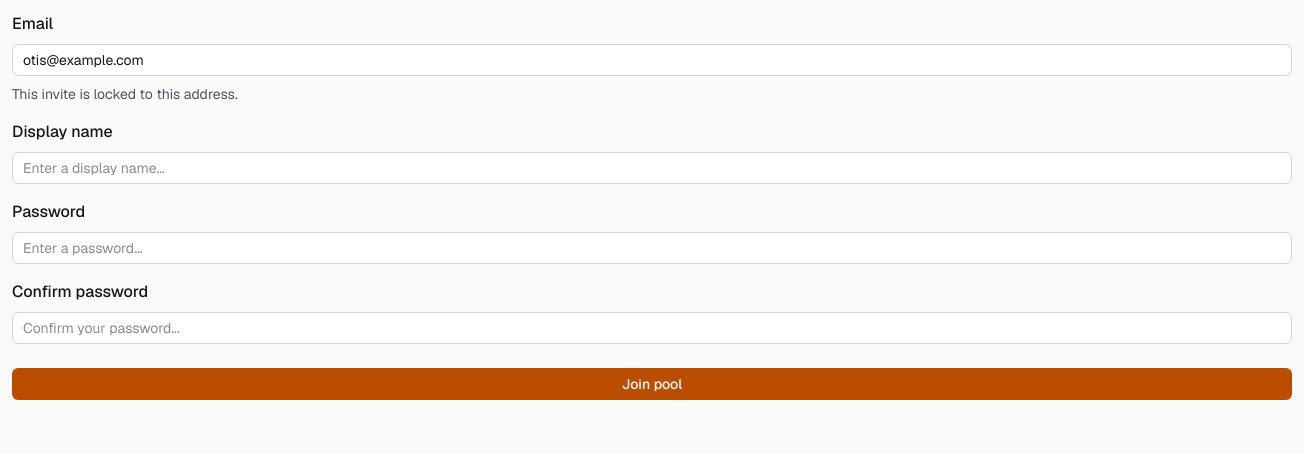
auth forms › should reject mismatched passwords on join
This screenshot has width=1304, height=454.
Type "Otis" into the field labelled "Display name" at (652,168), box [12,152,1292,184]
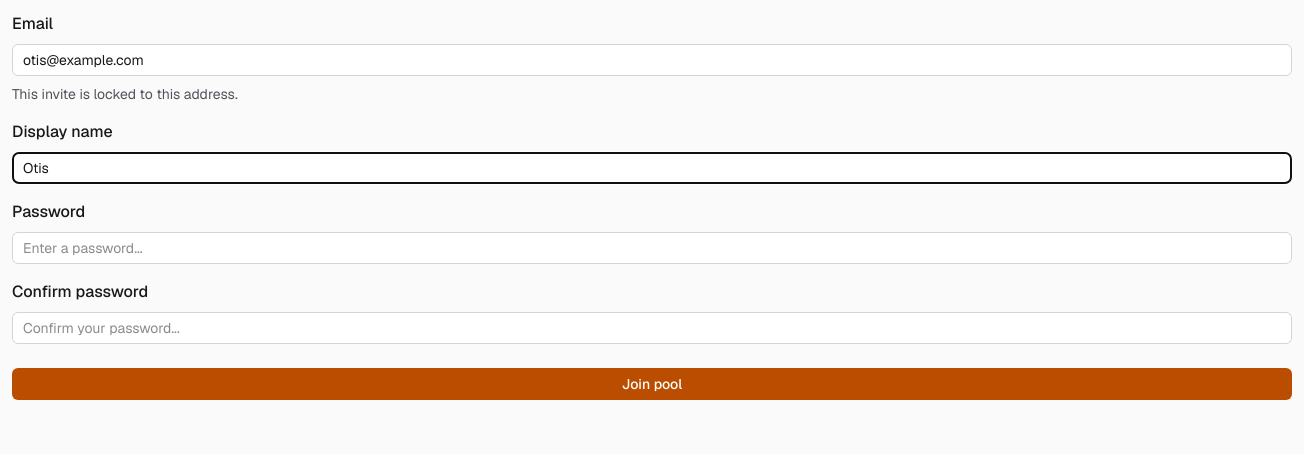
Type "password1" into the password field labelled "Password" at (652,248), box [12,232,1292,264]
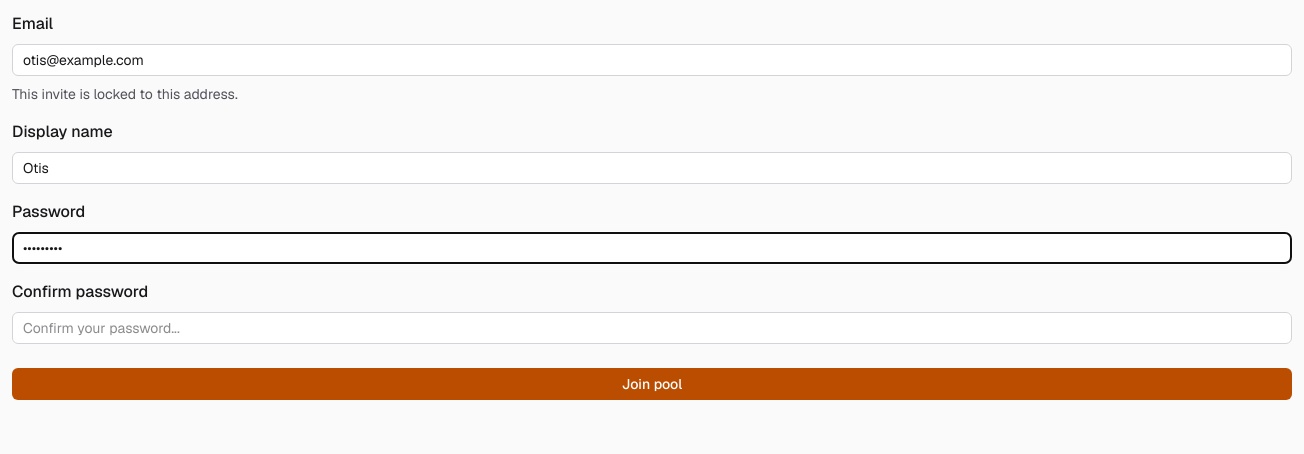
Type "password2" into the password field labelled "Confirm password" at (652,328), box [12,312,1292,344]
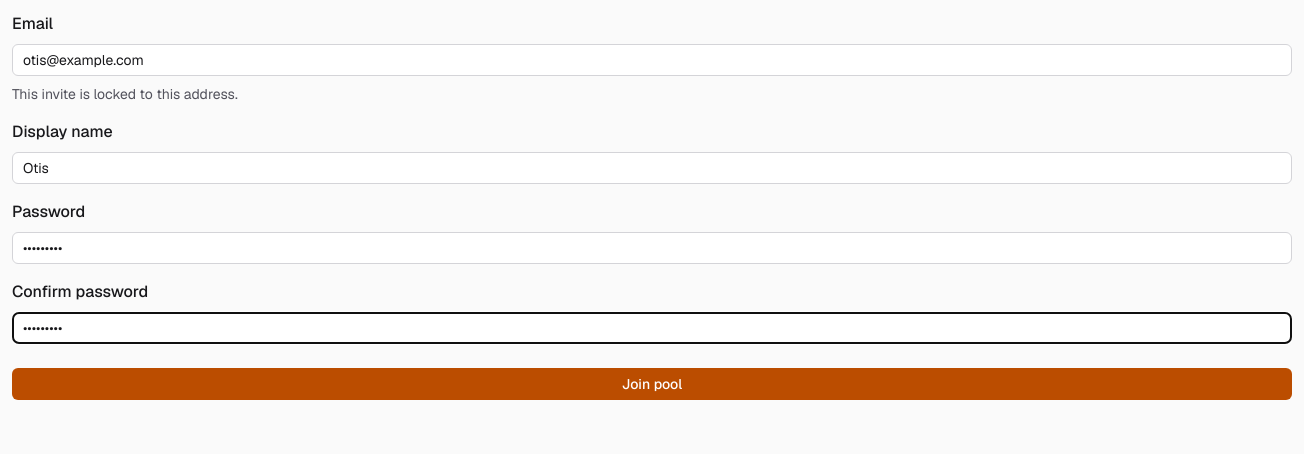
Click the button "Join pool" at (652,384), box [12,368,1292,400]
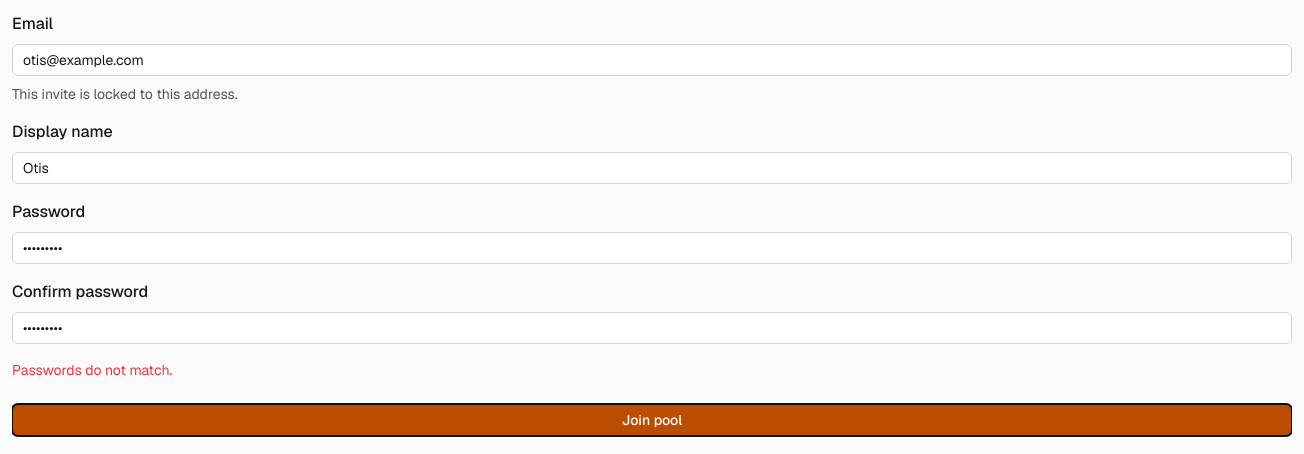
Expected: the message reads "Passwords do not match.", [12,361,172,379]
